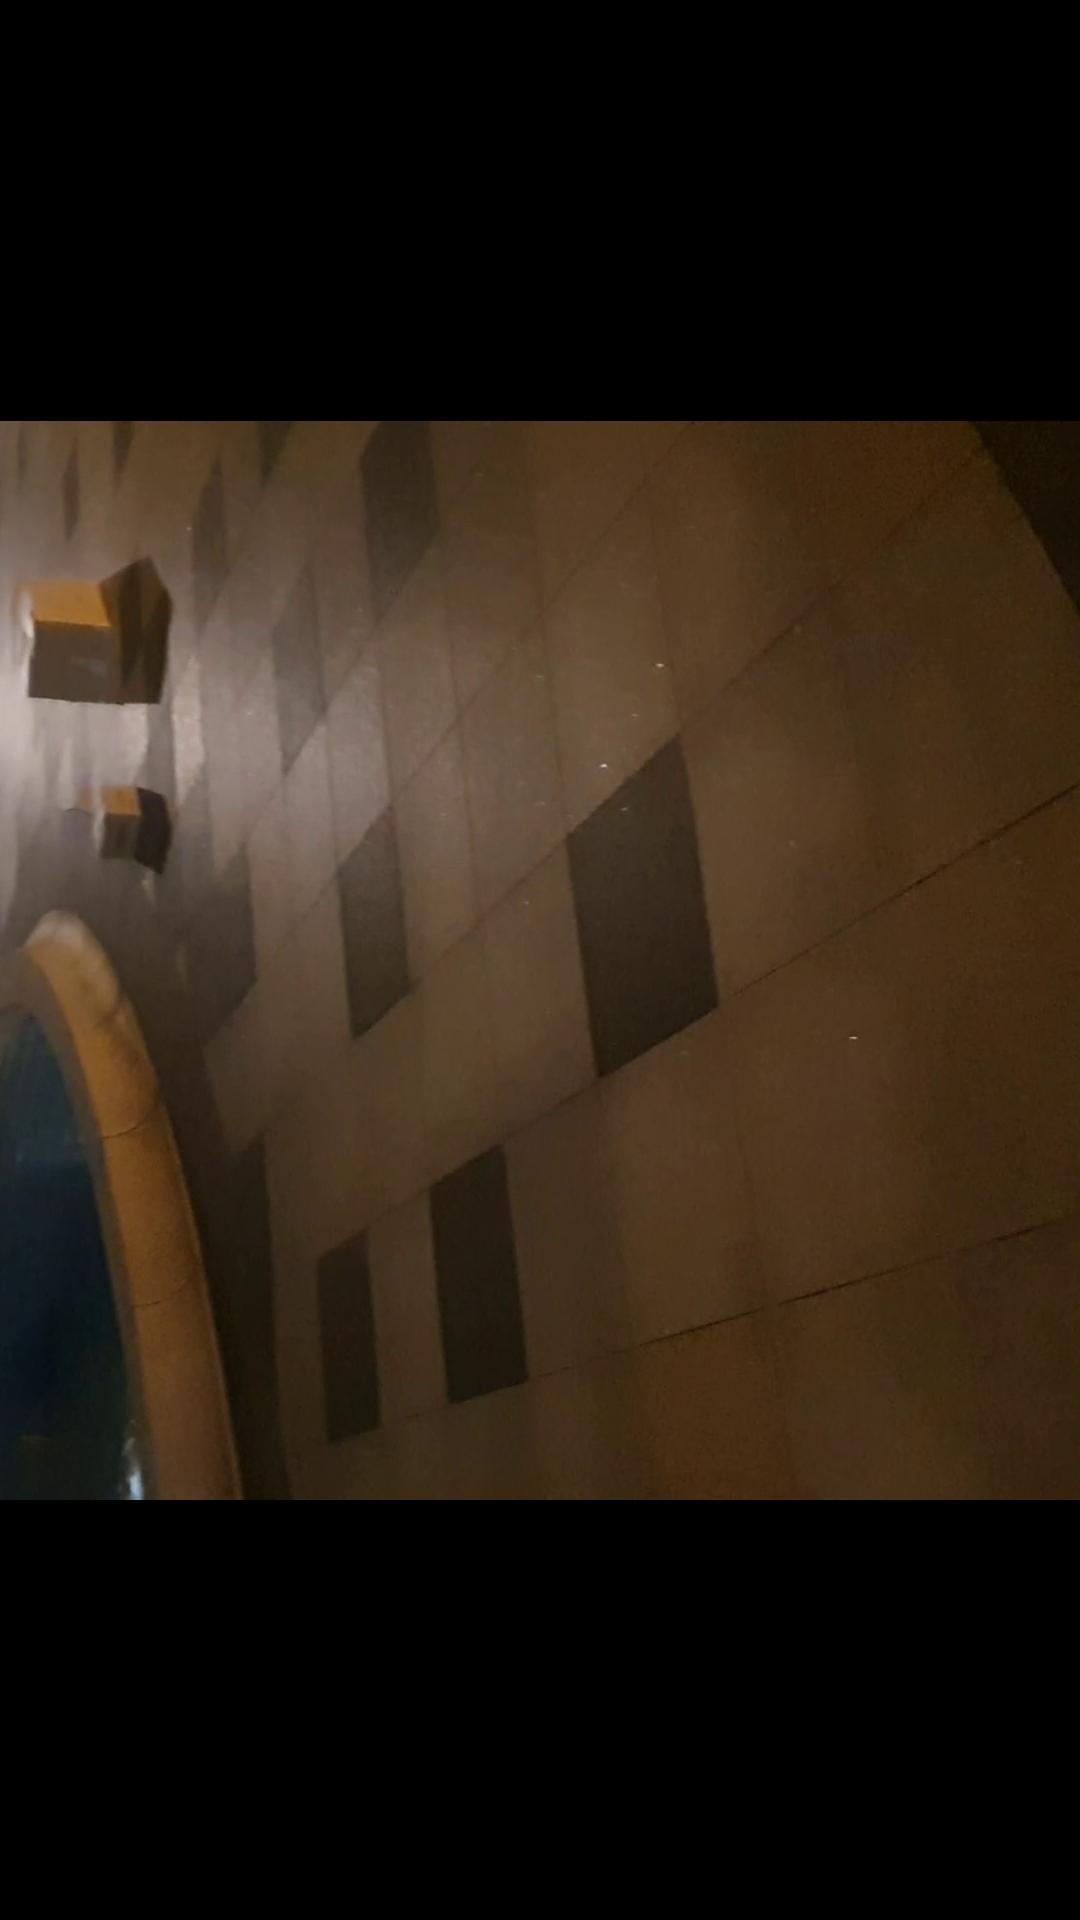Box: (0, 560, 132, 713), (75, 773, 160, 869)
